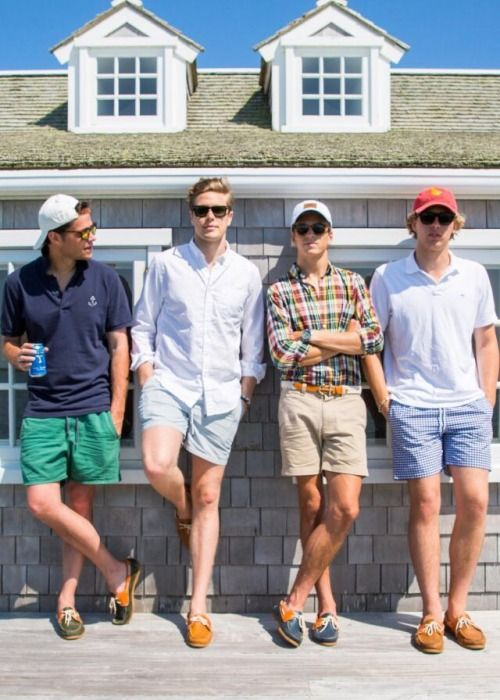Person: (2, 192, 140, 641), (133, 179, 265, 648), (381, 187, 500, 653), (265, 199, 381, 648)
